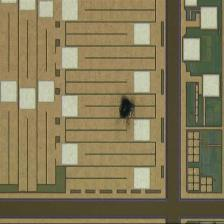PARTICLE: (115, 97, 138, 119)
